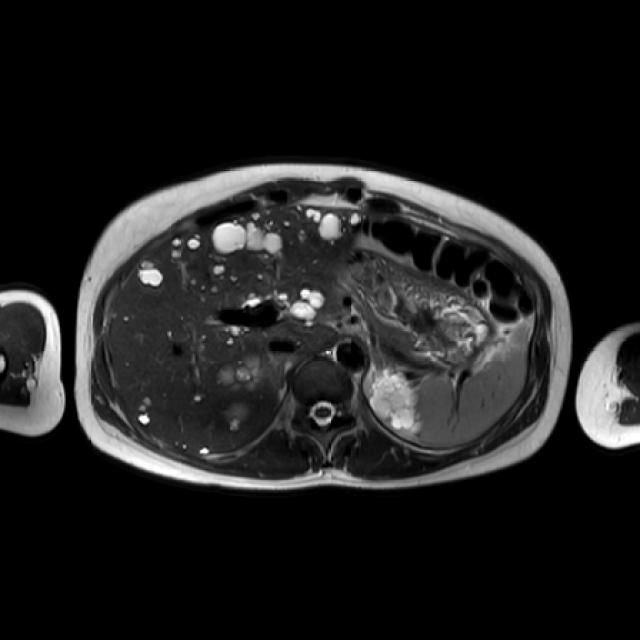sag: (217, 358, 265, 390), (228, 403, 248, 426)
sol: (371, 367, 420, 428)
